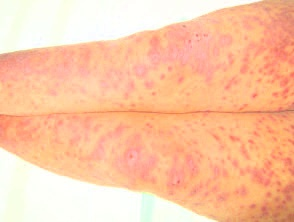SJS-TEN: (0, 0, 294, 135), (0, 111, 294, 222)
